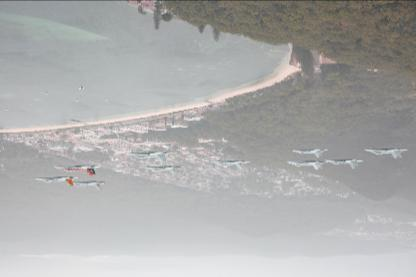F15: (54, 164, 102, 175), (126, 152, 174, 162), (34, 176, 80, 186), (365, 148, 409, 158), (288, 160, 328, 170), (211, 160, 251, 170), (292, 148, 330, 158), (73, 180, 109, 190), (325, 160, 365, 168), (145, 166, 185, 174)
